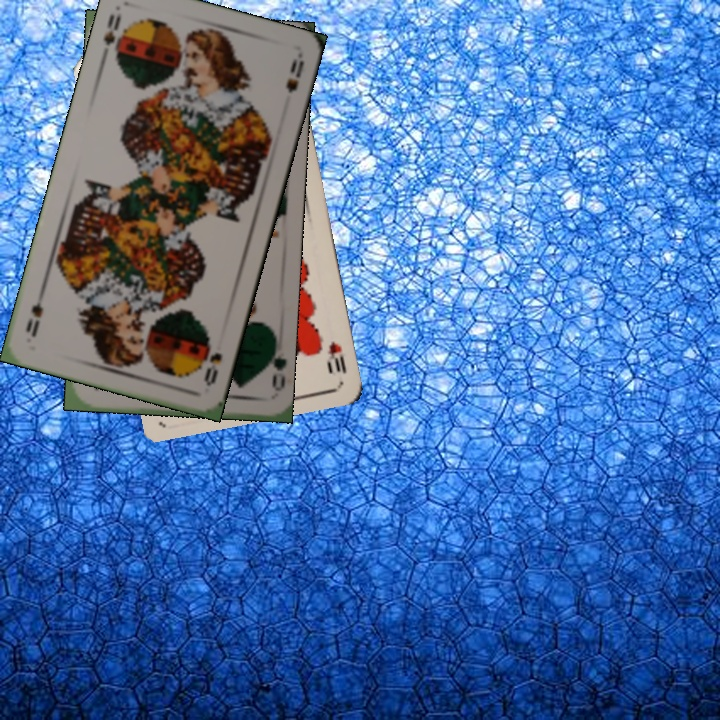GO: (259, 336, 287, 393)
H10: (323, 337, 349, 377)
SO: (97, 3, 127, 64), (199, 333, 225, 389)
